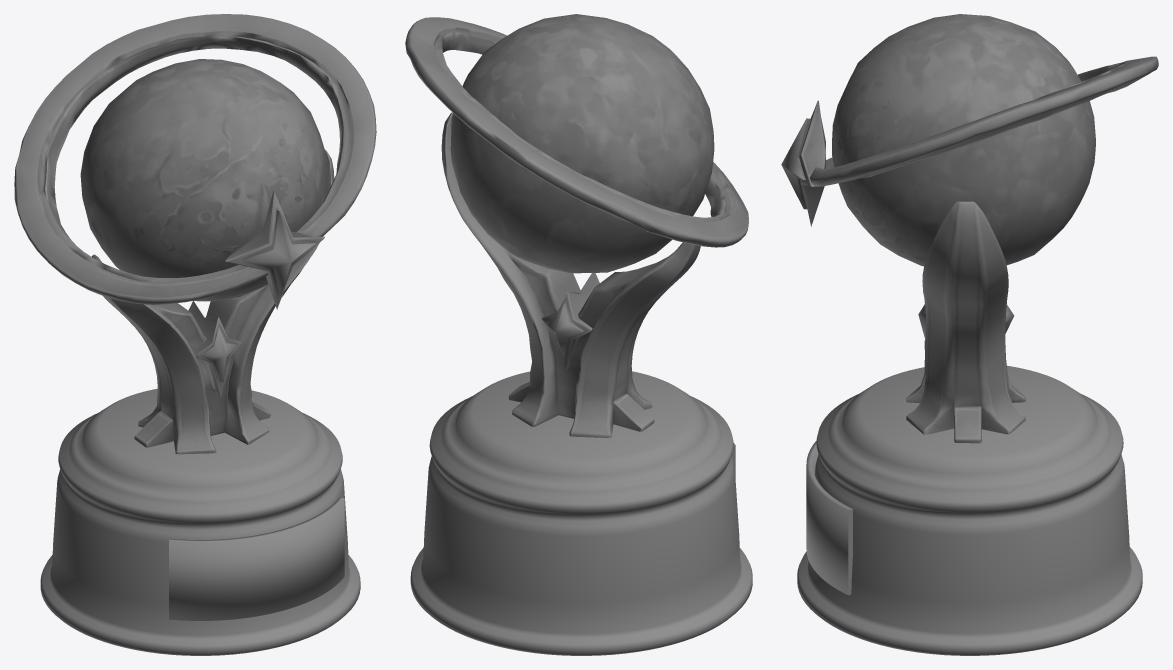
Rendered from iron_honor.glb.
3 views of the same model, side by side, from view 1: azimuth 30°, elevation 25°; view 2: azimuth 150°, elevation 25°; view 3: azimuth 270°, elevation 25° (orthographic). The views are drawn at different scales.
Visible parts, largest first — view 1: iron_honor_AO_candidate; view 2: iron_honor_AO_candidate; view 3: iron_honor_AO_candidate.
Boxes of the visible parts, x1,y1,x2,y2 form: iron_honor_AO_candidate: [14, 14, 376, 655]; iron_honor_AO_candidate: [405, 14, 752, 655]; iron_honor_AO_candidate: [781, 14, 1158, 655].
Size of the model in its own units: 0.6047 by 1 by 0.6094.
2 materials, 1 textured.
